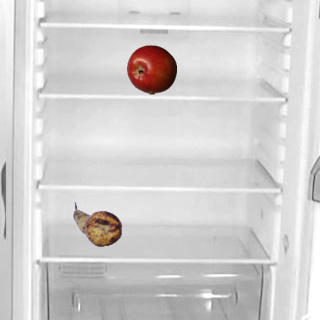Apple Braeburn: (126, 44, 176, 94)
Pear Abate: (72, 199, 122, 249)
